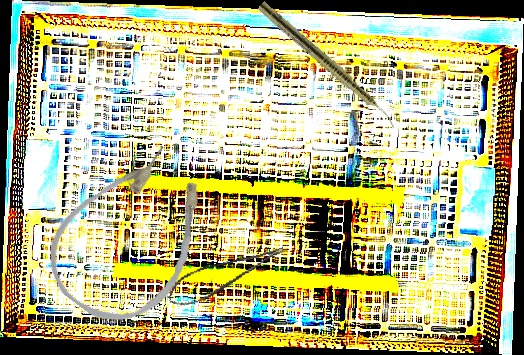Cannula: (27, 124, 239, 346)
Handpiece: (255, 0, 402, 130)
Micro Scissor: (162, 242, 292, 312)
